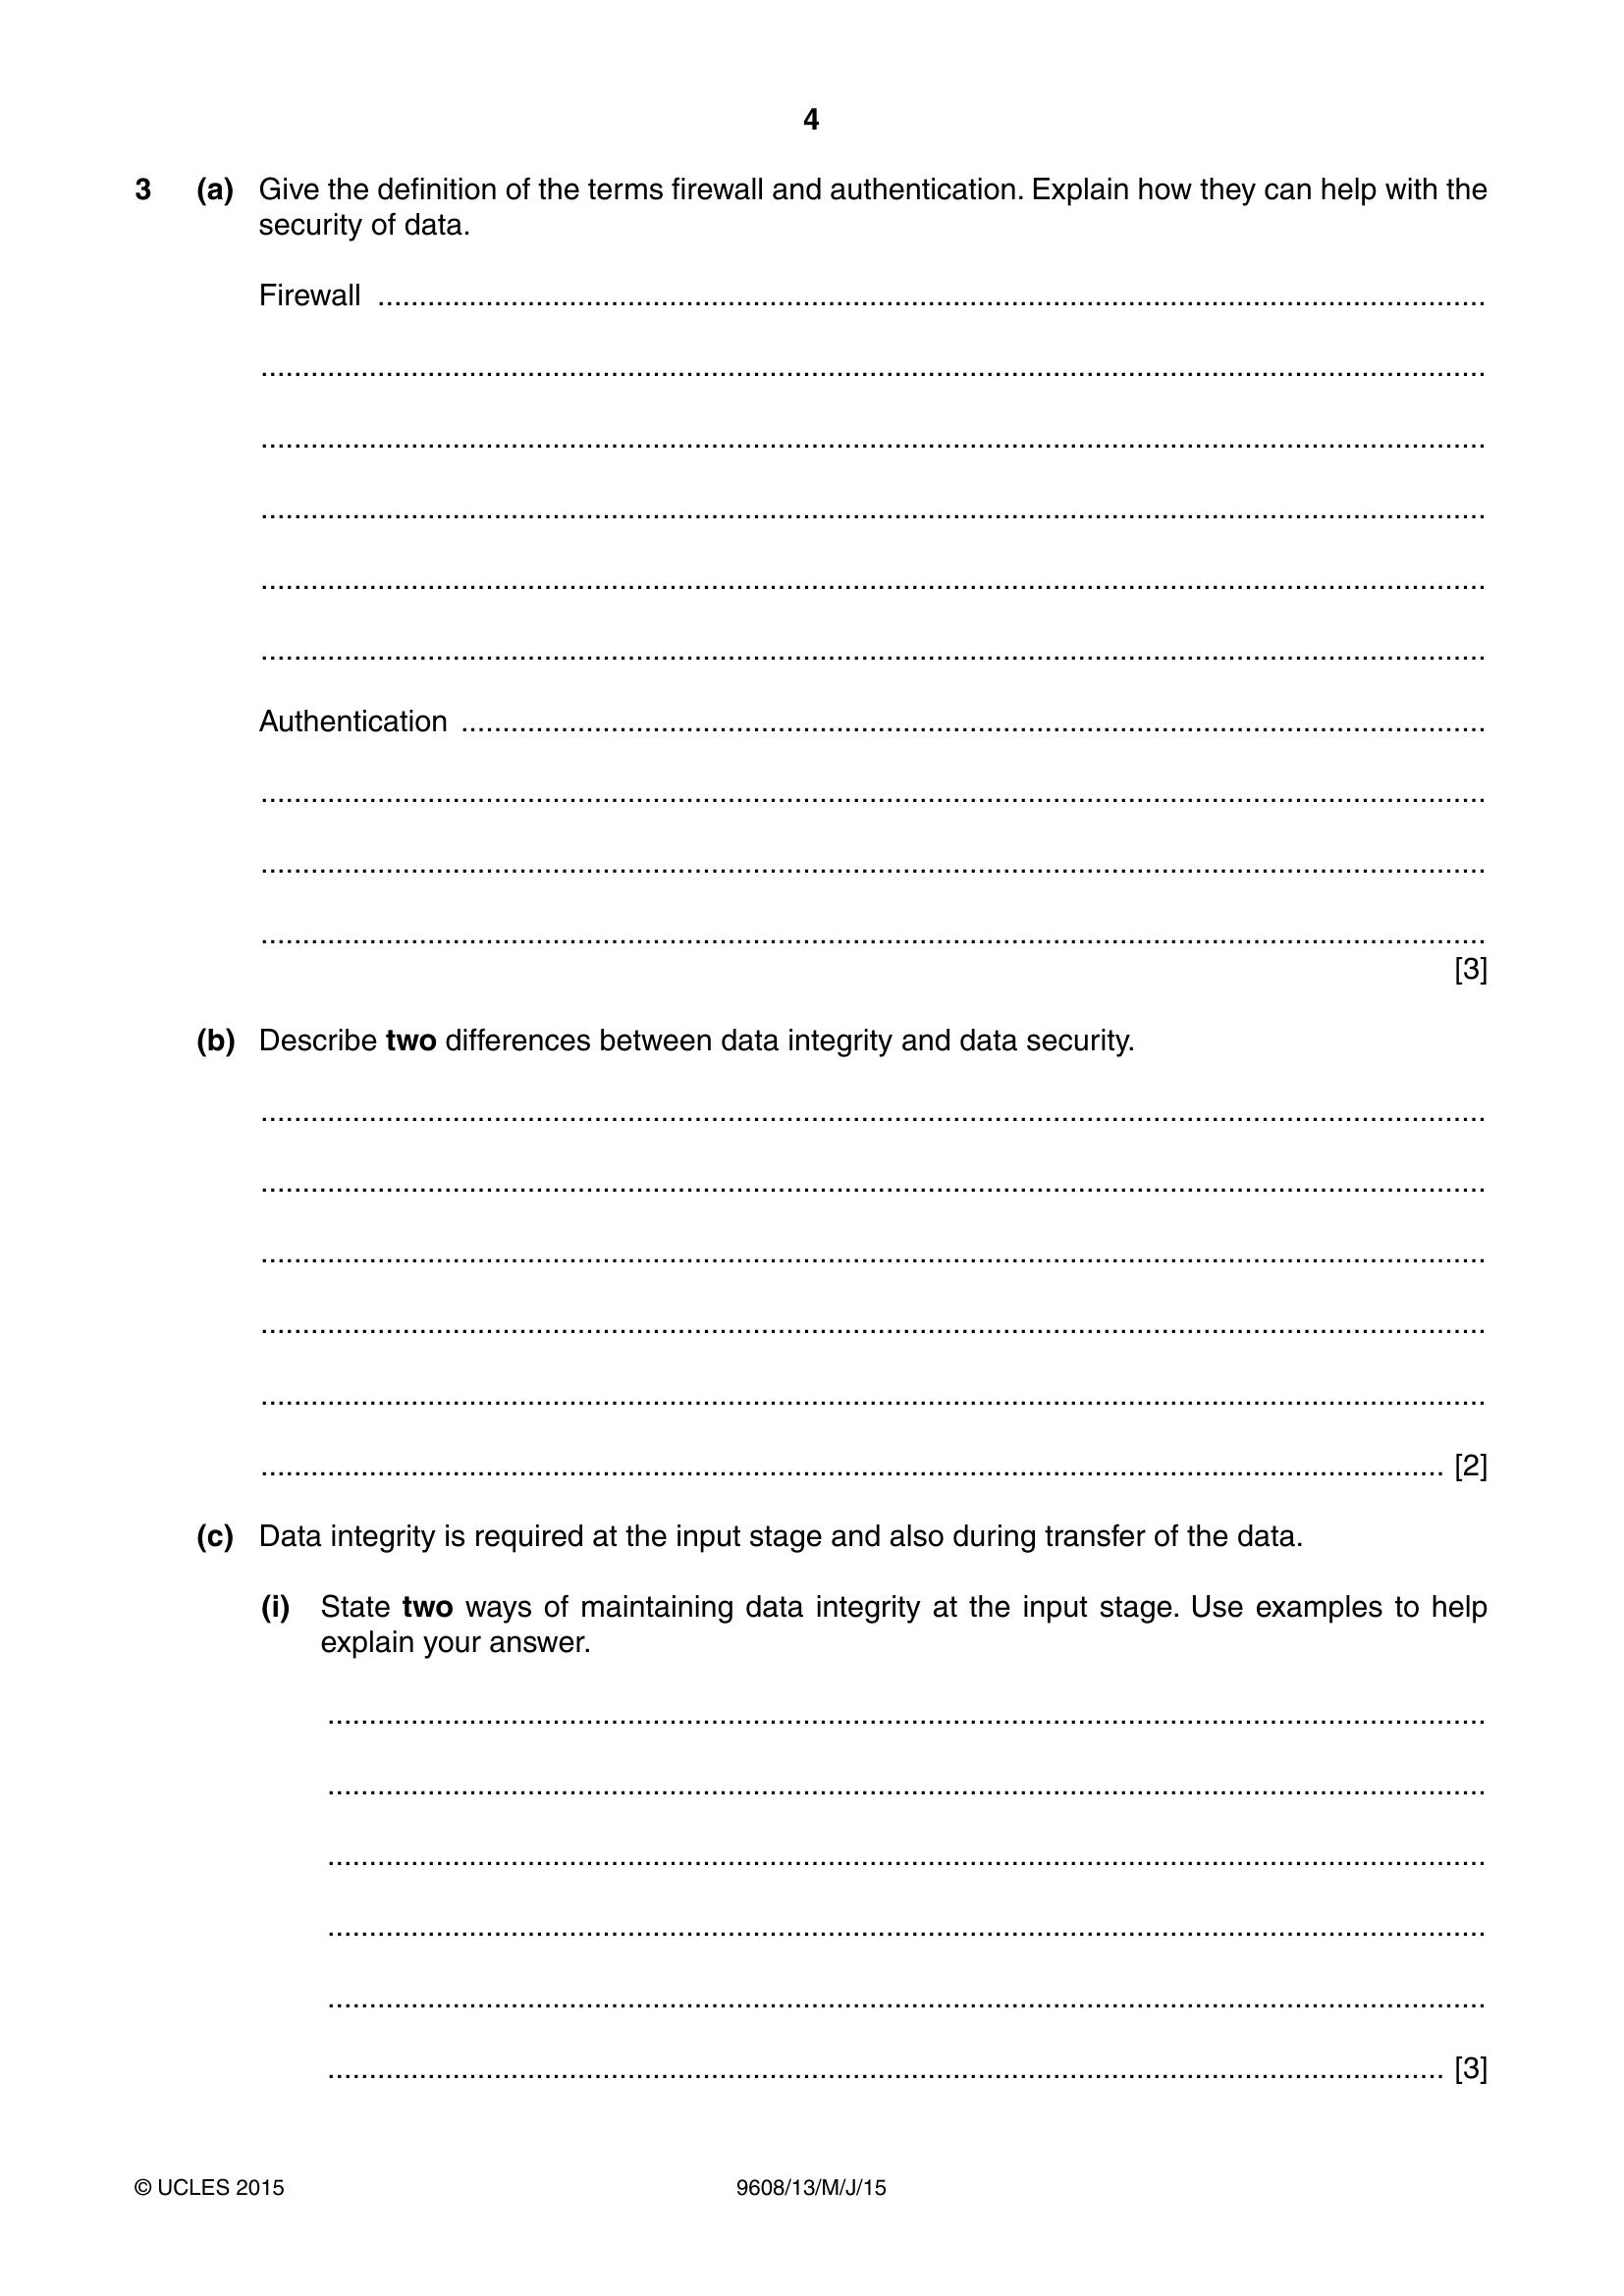question: (2, 149, 1624, 2122)
